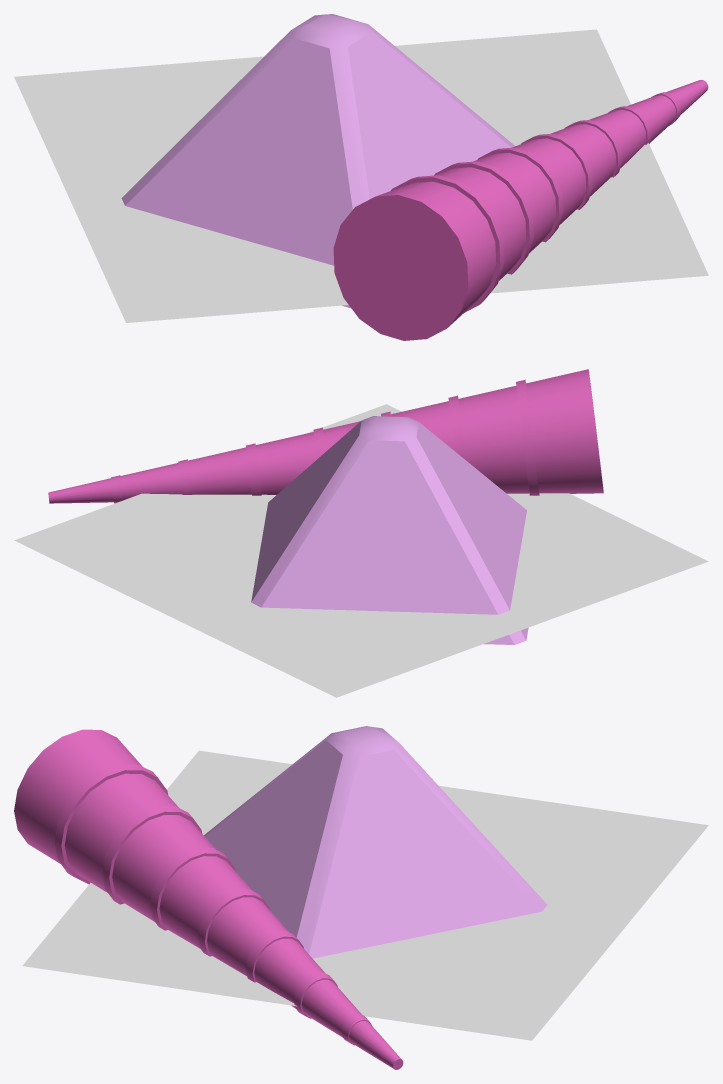
Rendered from Item_Unicon.fbx.
3 renders of one model, top to bottom at view 1: azimuth 30°, elevation 25°; view 2: azimuth 150°, elevation 25°; view 3: azimuth 270°, elevation 25°, orthographic. The views are drawn at different scales.
Visible parts, largest first — view 1: Cylinder.022; view 2: Cylinder.022; view 3: Cylinder.022.
Boxes of the visible parts, box(x1,y1,x2,y2) form: Cylinder.022: box(14, 14, 708, 340); Cylinder.022: box(14, 369, 708, 697); Cylinder.022: box(14, 726, 708, 1069).
Bounding box in the file's own units: 127 × 32.94 × 122.
